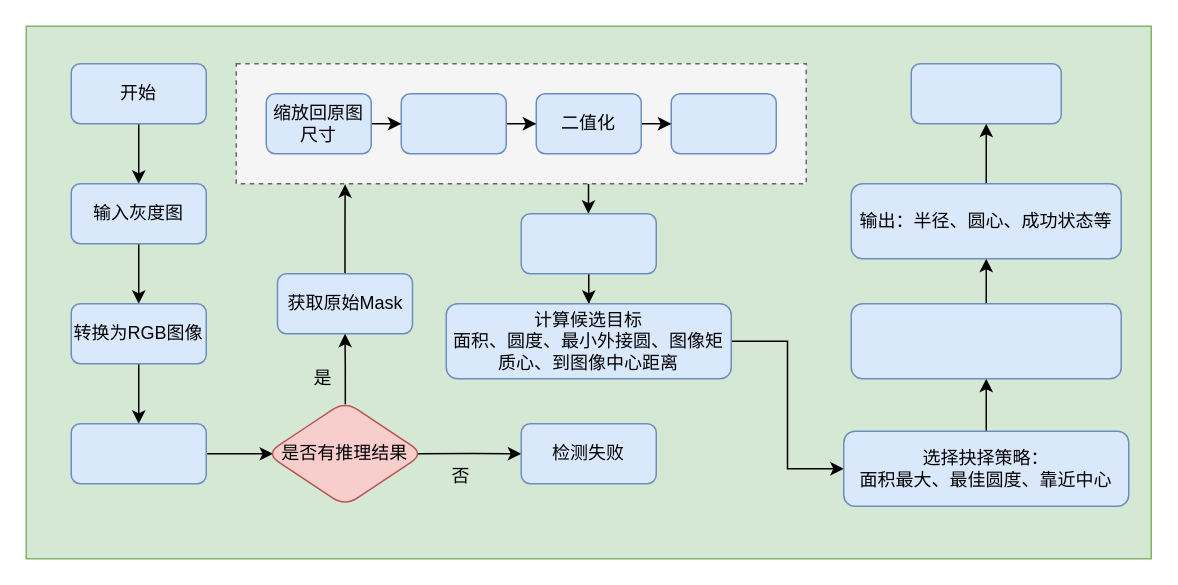
This 1178x585 diagram has some shape labels left out. The shapes that lost their labels are listed below. From the top down, each one's centre as x and y in pixels, then its label:
At pixel 985 93: "结束".
At pixel 453 123: "转换为uint8".
At pixel 723 123: "高斯平滑（减少锯齿）".
At pixel 588 243: "提取外部轮廓".
At pixel 985 340: "选择中心推算算法： 图像矩质心、最小外接圆".
At pixel 138 453: "YOLOv8n-seg模型推理".
